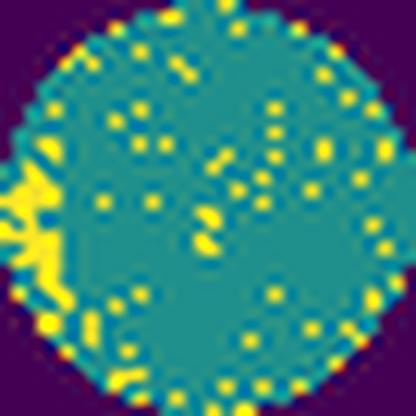Loc: (0, 159, 75, 313)
